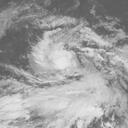cyclone: (26, 21, 117, 124)
